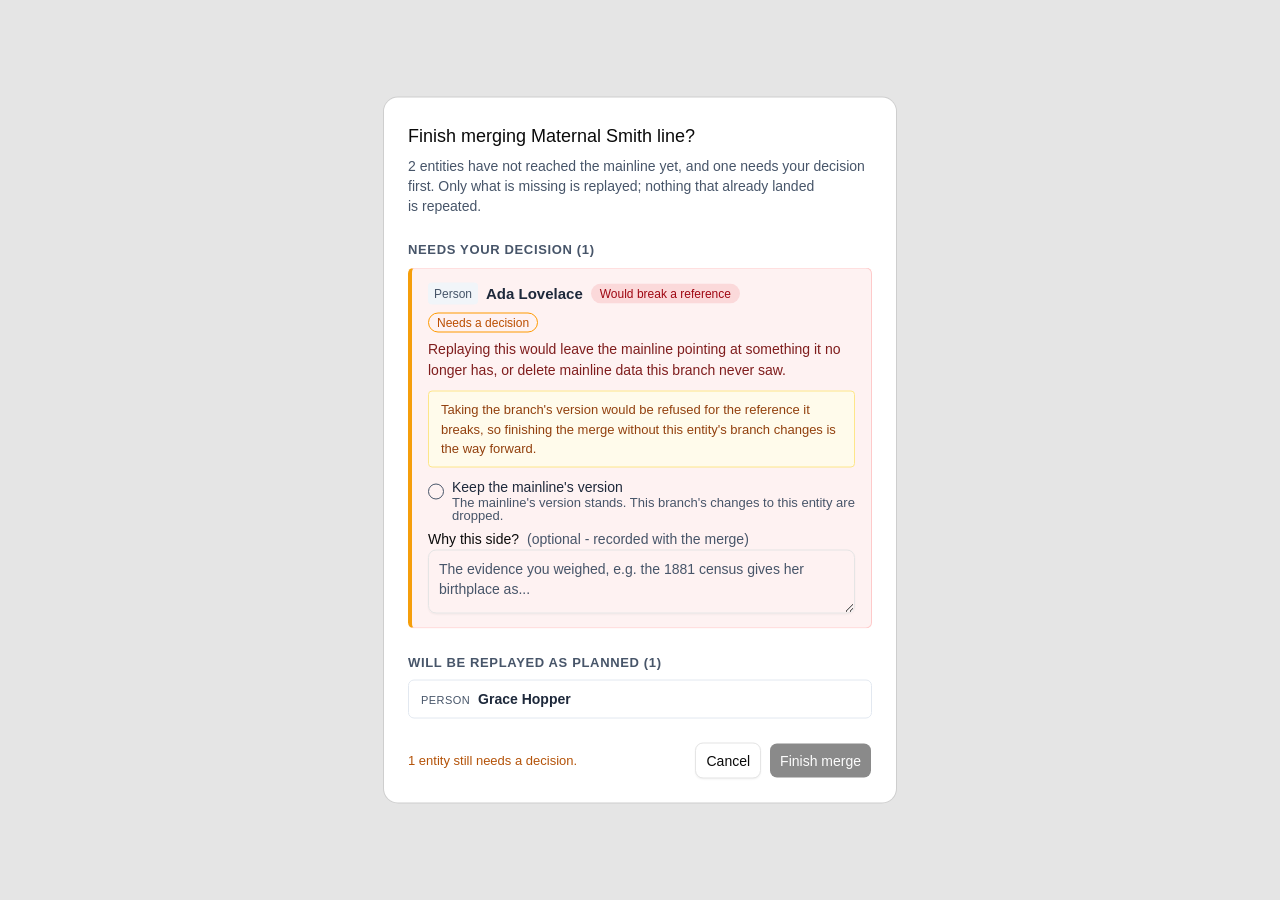
Scenario: FinishMergeDialog › shows the blockers a dangling-reference refusal carries and keeps the decisions
The width and height of the screenshot is (1280, 900).
Click the radio button.
click(436, 491)  # box [428,483,444,499]
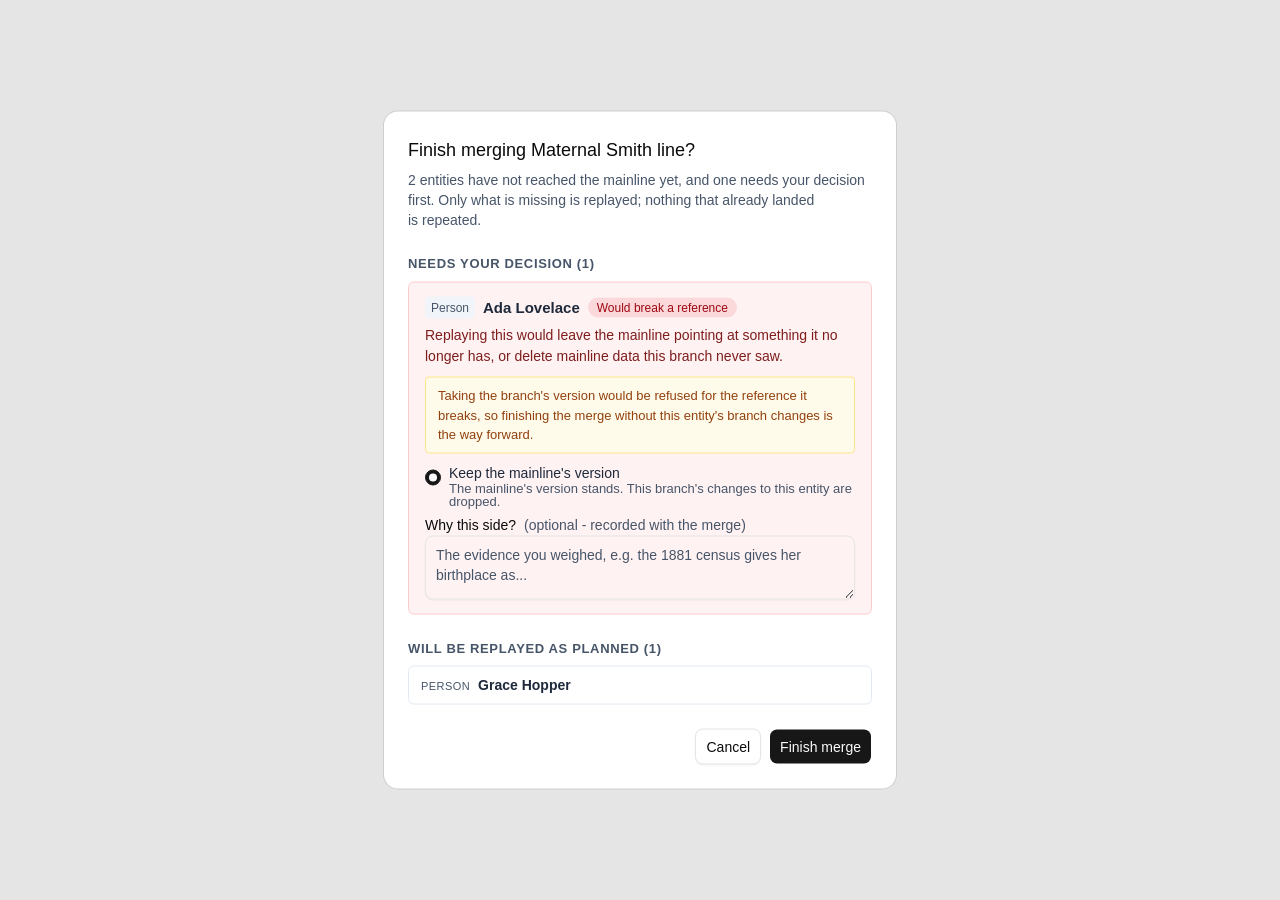
Click the button "Finish merge".
click(821, 746)  # box [769,728,872,764]
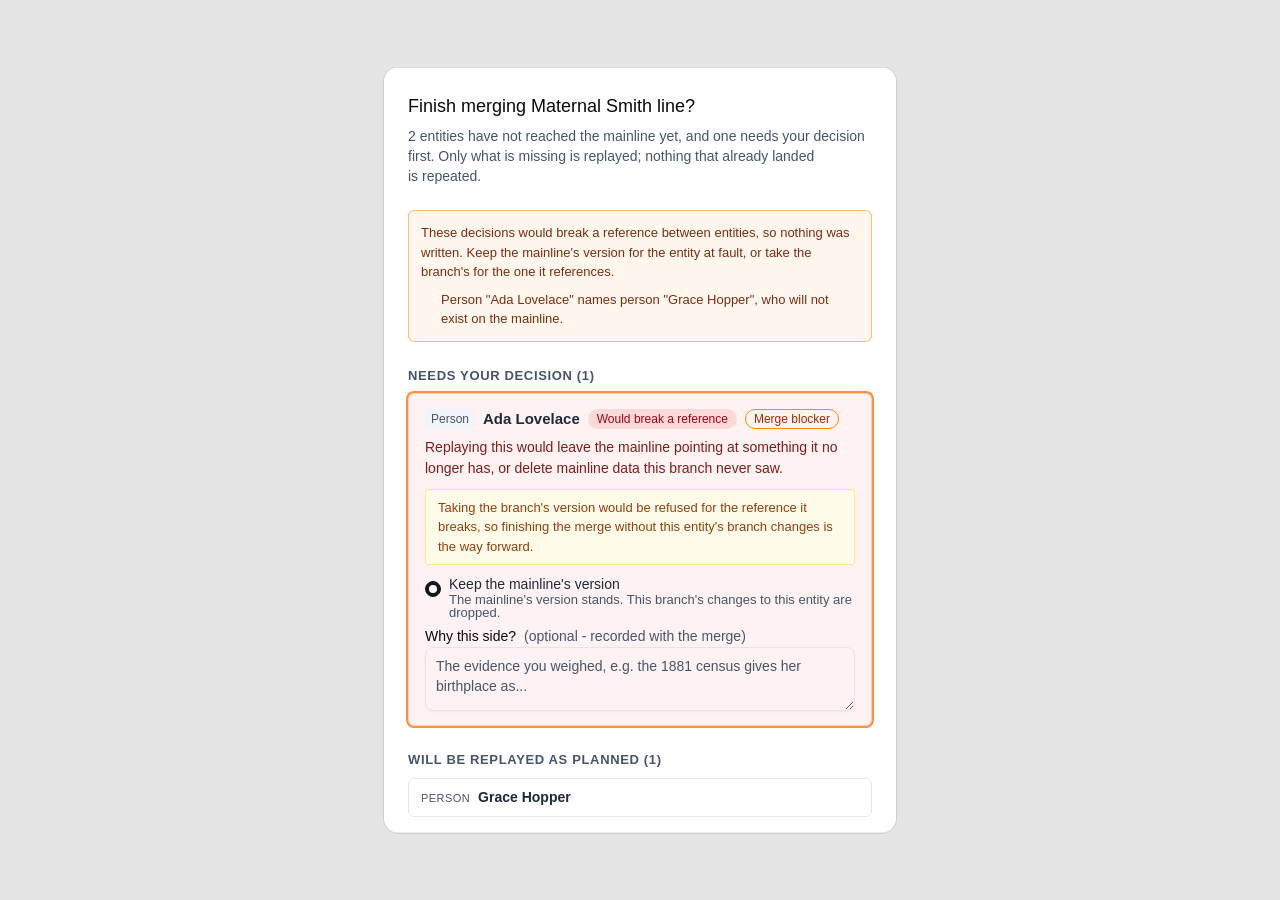
Expected: the text "would break a reference between entities" is shown, [421,224,850,278]
Expected: the list named "Merge blockers" shows "Grace Hopper", [441,291,829,326]
Expected: the text "Merge blocker" is shown, [745,409,839,429]
